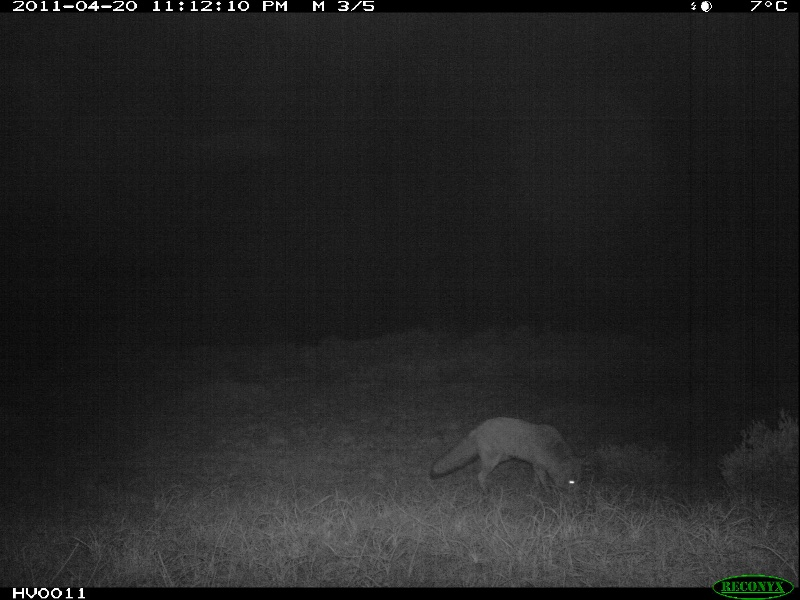fox: (427, 416, 589, 498)
